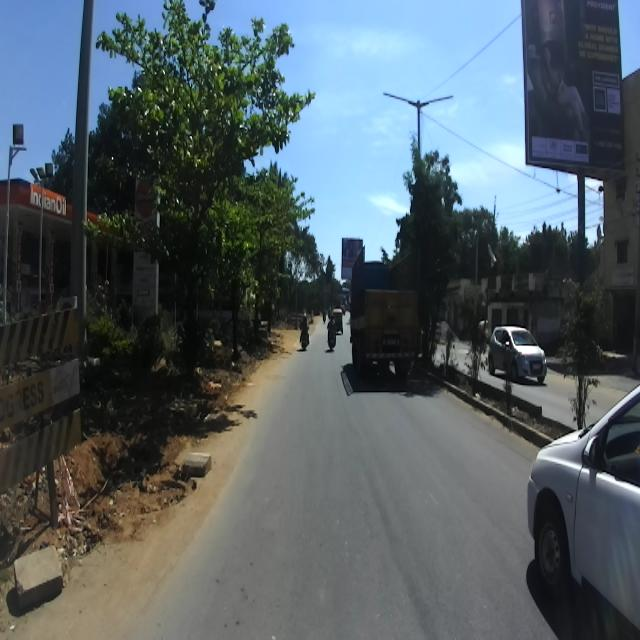car ahead at: (524, 384, 640, 616)
truck ahead at: (349, 251, 425, 407)
